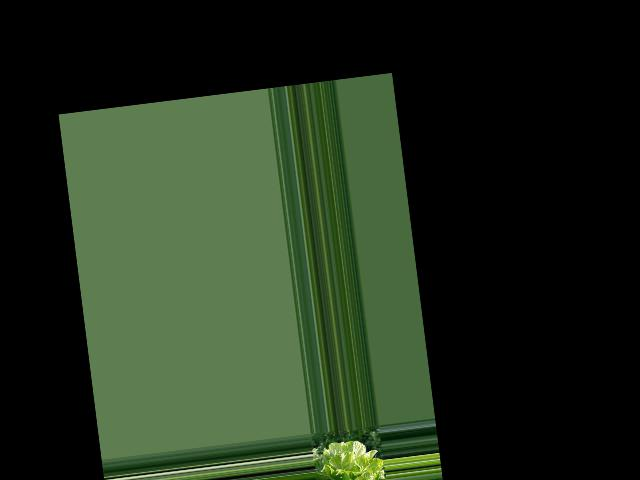lettuce: (313, 438, 380, 480)
